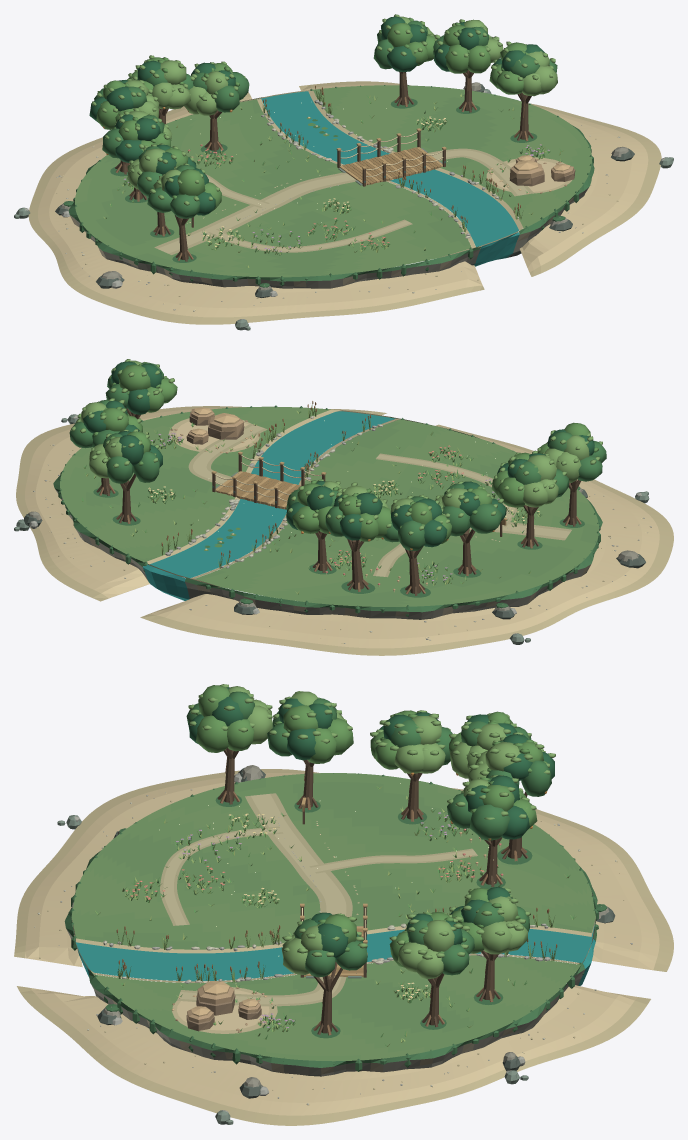
Rendered from ecology.glb.
The picture shows the model from 3 angles, top to bottom: view 1: azimuth 30°, elevation 25°; view 2: azimuth 150°, elevation 25°; view 3: azimuth 270°, elevation 25°; orthographic projection. The views are drawn at different scales.
Parts seen in each view (by area): view 1: Ecology · sandLight, Ecology · turf, Ecology · turfLight, Ecology · turfShade, Ecology · sand, Ecology · stream and waterfalls, Ecology · leafSun, Ecology · leafLight, Ecology · leafDark, Ecology · leaf, Ecology · moss, Ecology · pathLight (+17 smaller); view 2: Ecology · sandLight, Ecology · turf, Ecology · turfLight, Ecology · turfShade, Ecology · sand, Ecology · stream and waterfalls, Ecology · leaf, Ecology · leafSun, Ecology · leafLight, Ecology · leafDark, Ecology · moss, Ecology · bark (+18 smaller); view 3: Ecology · sandLight, Ecology · turf, Ecology · turfLight, Ecology · turfShade, Ecology · leafSun, Ecology · sand, Ecology · leafLight, Ecology · leaf, Ecology · stream and waterfalls, Ecology · leafDark, Ecology · moss, Ecology · pathLight (+14 smaller).
Part boxes in pixels (box(x1,y1,x2,y2)): Ecology · sandLight: box(38, 84, 648, 317); Ecology · turf: box(75, 85, 591, 277); Ecology · turfLight: box(75, 85, 581, 276); Ecology · turfShade: box(96, 89, 497, 277); Ecology · sand: box(28, 81, 661, 324); Ecology · stream and waterfalls: box(258, 91, 519, 266); Ecology · leafSun: box(91, 14, 557, 205); Ecology · leafLight: box(96, 17, 534, 211); Ecology · leafDark: box(89, 16, 544, 215); Ecology · leaf: box(94, 20, 557, 218); Ecology · moss: box(63, 85, 594, 287); Ecology · pathLight: box(158, 150, 530, 253); Ecology · sandLight: box(25, 408, 659, 648); Ecology · turf: box(60, 407, 598, 606); Ecology · turfLight: box(60, 406, 590, 602); Ecology · turfShade: box(86, 421, 598, 606); Ecology · sand: box(16, 406, 673, 655); Ecology · stream and waterfalls: box(142, 411, 395, 600); Ecology · leaf: box(69, 362, 606, 550); Ecology · leafSun: box(71, 359, 602, 535); Ecology · leafLight: box(93, 364, 598, 550); Ecology · leafDark: box(83, 361, 594, 547); Ecology · moss: box(53, 405, 602, 616); Ecology · bark: box(96, 408, 580, 595); Ecology · sandLight: box(25, 773, 659, 1115); Ecology · turf: box(71, 773, 595, 1061); Ecology · turfLight: box(71, 785, 591, 1060); Ecology · turfShade: box(85, 778, 591, 1033); Ecology · leafSun: box(188, 684, 555, 979); Ecology · sand: box(14, 769, 673, 1125); Ecology · leafLight: box(195, 685, 547, 967); Ecology · leaf: box(186, 691, 551, 977); Ecology · stream and waterfalls: box(75, 923, 595, 985); Ecology · leafDark: box(188, 687, 554, 959); Ecology · moss: box(64, 773, 607, 1071); Ecology · pathLight: box(163, 794, 476, 1004).
Size of the model in its own units: 32.21 by 6.45 by 25.16.
